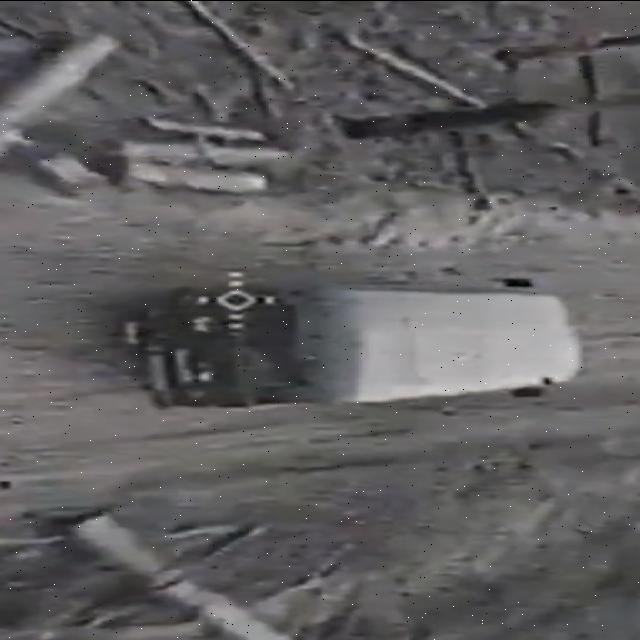CAR: (137, 286, 584, 410)
